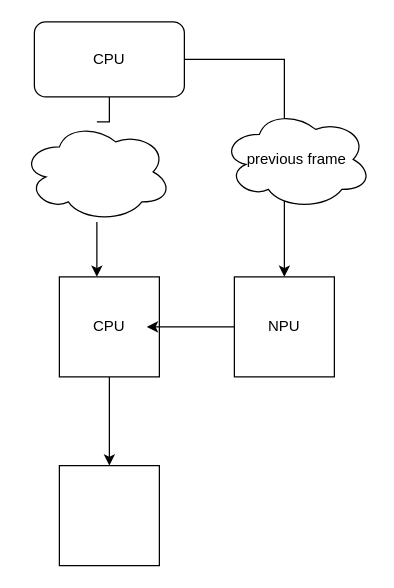
The diagram is 394 pixels wide and 588 high, and some of its shapes have lost their labels. The box of each missing label's shape, as (x1, y1, x2, y2) in pixels:
current frame: (21, 121, 172, 222)
Result: (58, 464, 159, 566)
